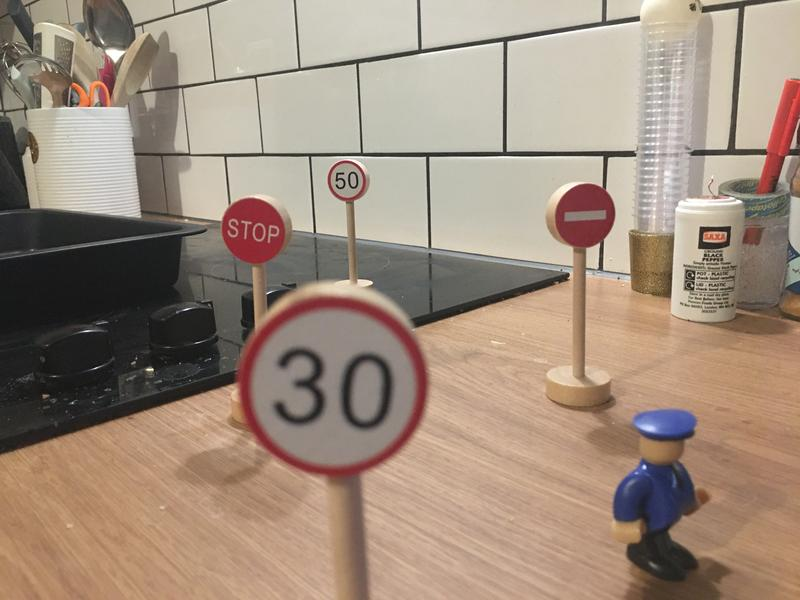Traffic_Sign_30: (240, 295, 426, 478)
Traffic_Sign_50: (328, 161, 366, 200)
Traffic_Sign_No_Entry: (556, 184, 613, 247)
Traffic_Sign_Stop: (222, 198, 287, 266)
person: (608, 409, 717, 582)
